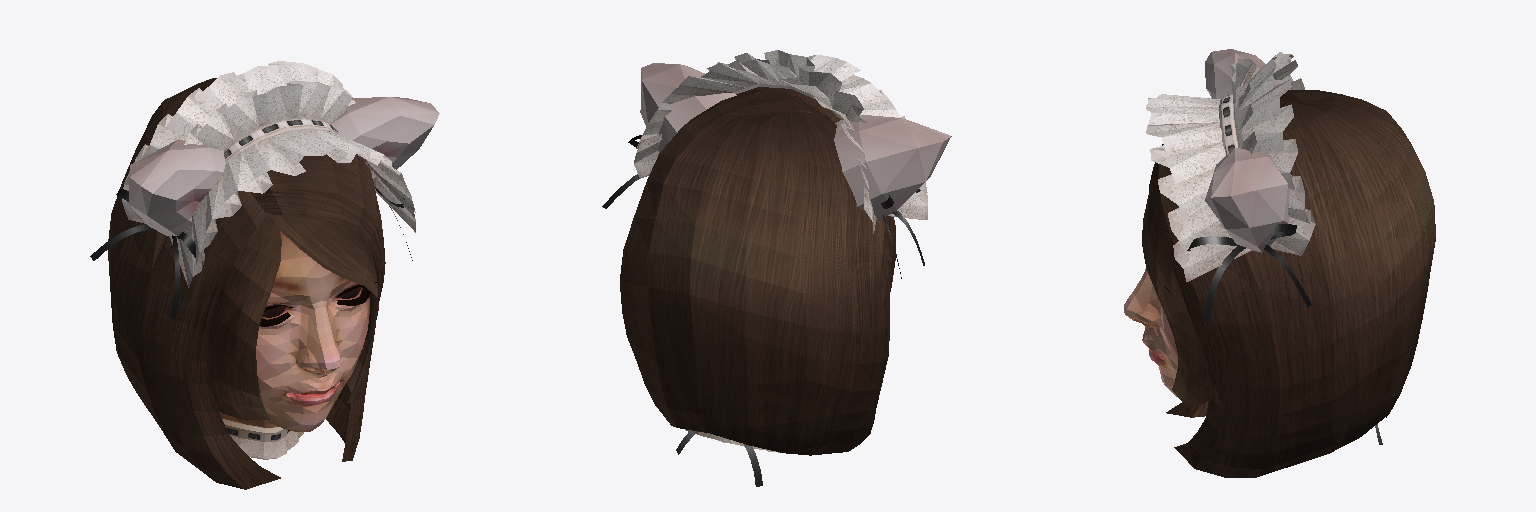
The picture shows the model from 3 angles: view 1: azimuth 30°, elevation 25°; view 2: azimuth 150°, elevation 25°; view 3: azimuth 270°, elevation 25°; orthographic projection.
Visible parts, largest first — view 1: (null); view 2: (null); view 3: (null).
Boxes of the visible parts, <box> form: (null): <box>90,61,439,489</box>; (null): <box>602,50,951,486</box>; (null): <box>1124,49,1435,477</box>.
Bounding box in the file's own units: 0.5301 × 0.6401 × 0.4748.
Materials: 5 (4 with a texture image).